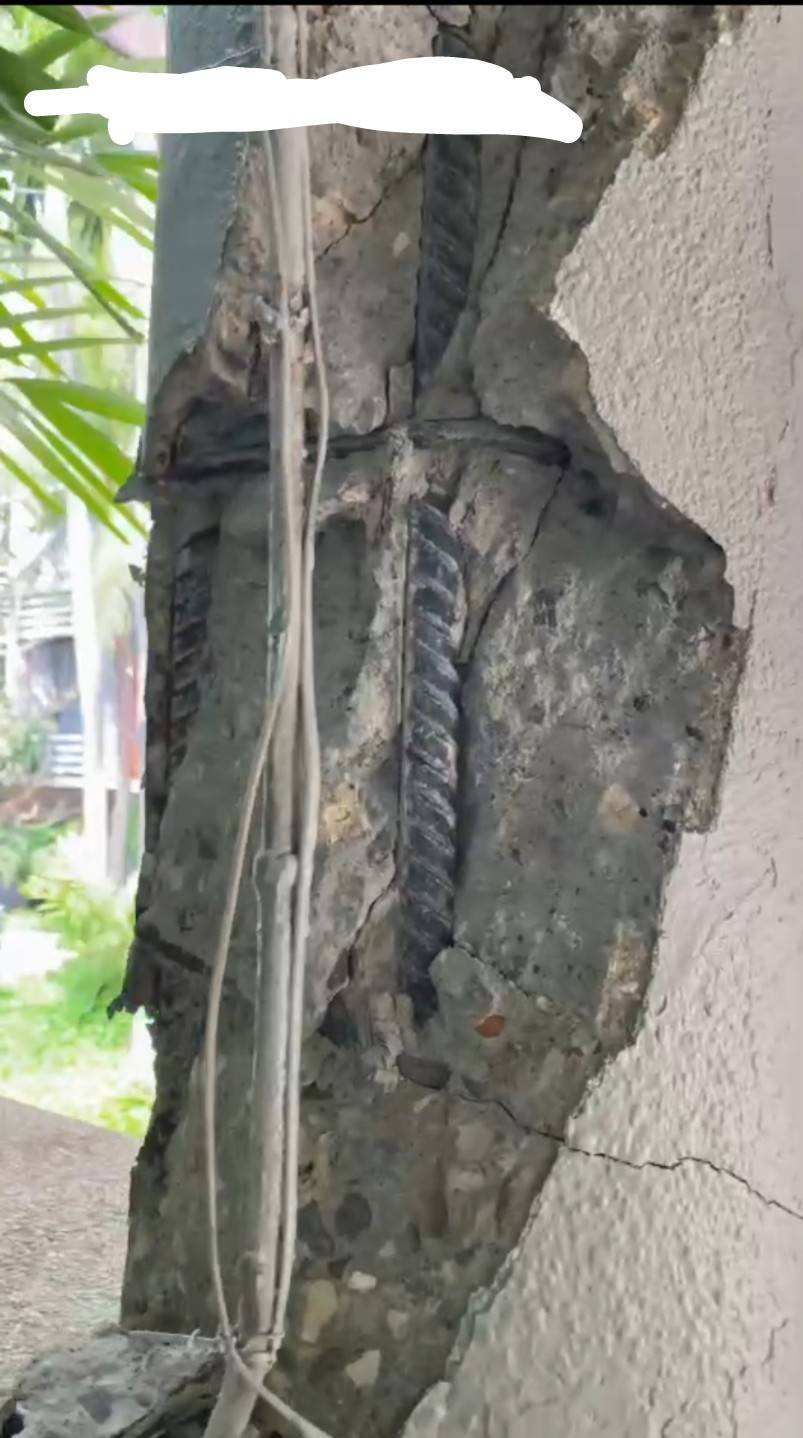High: (153, 134, 798, 1438)
